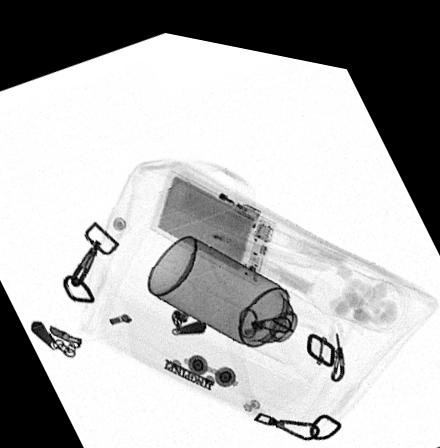Lighter: (178, 163, 260, 212)
Powerbank: (149, 161, 277, 275)
Sprayer: (148, 226, 323, 354)
